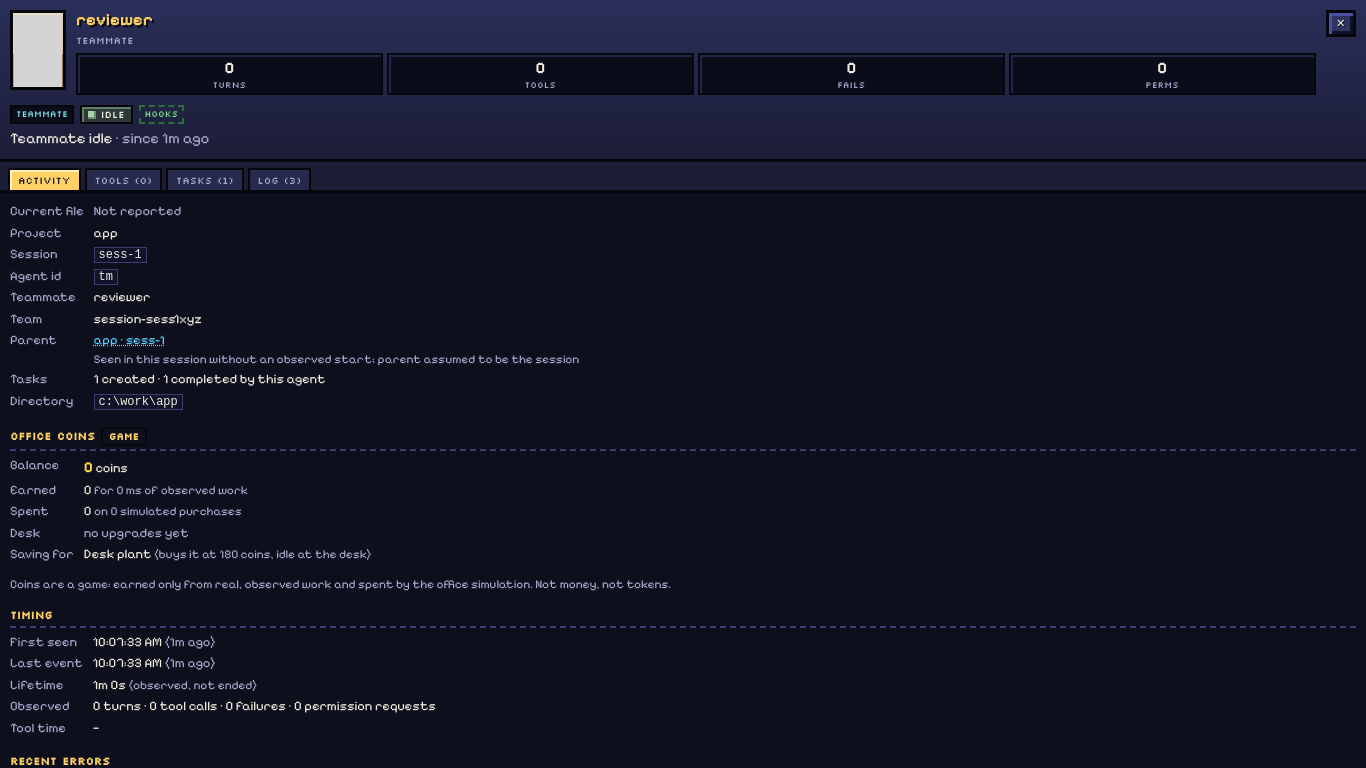
Test: Inspector: identity and relationships › shows teammate name, team and task history
This screenshot has width=1366, height=768.
Expected: the text "reviewer" is shown, [94, 289, 151, 305]
Expected: the text "session-sess1xyz" is shown, [94, 311, 202, 327]
Click the tab "Tasks (1)" at (205, 179), box [166, 168, 244, 190]
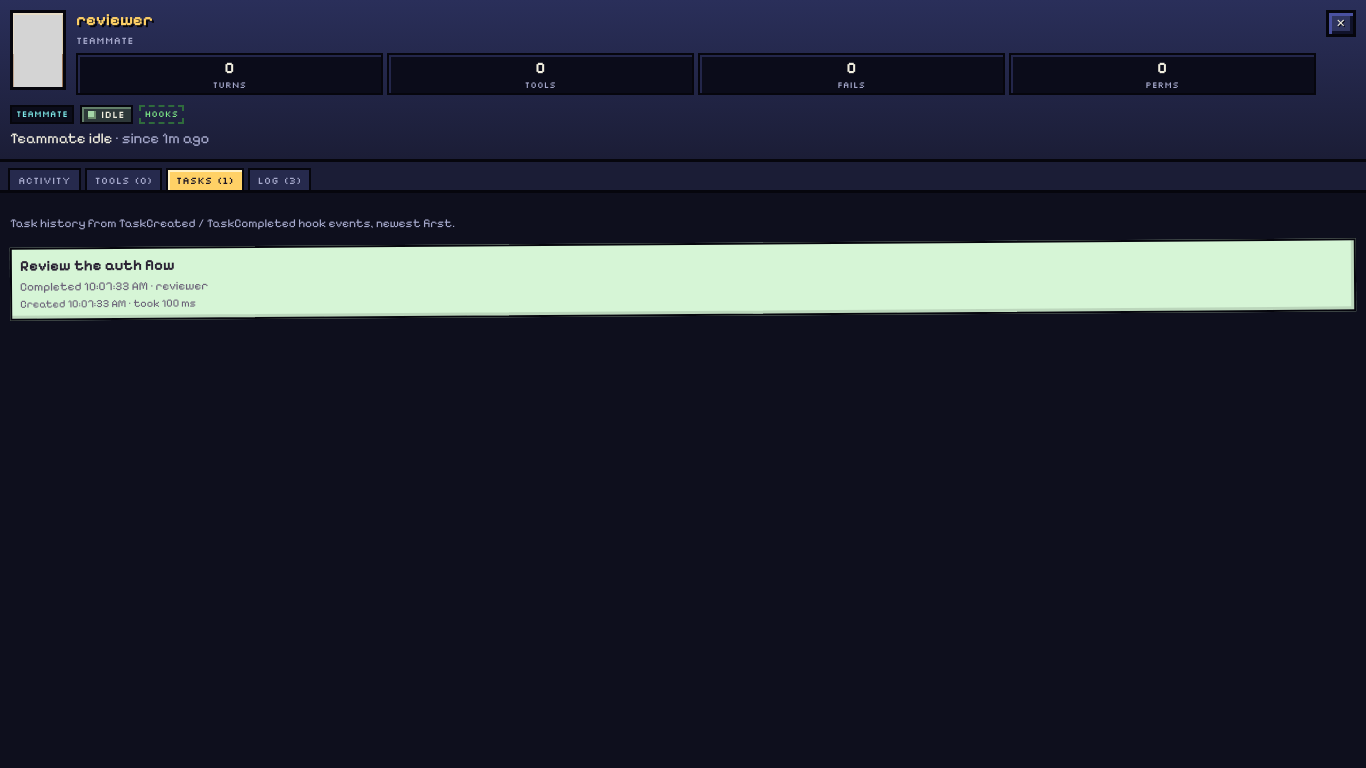
Expected: the text "Review the auth flow" is shown, [20, 256, 175, 275]
